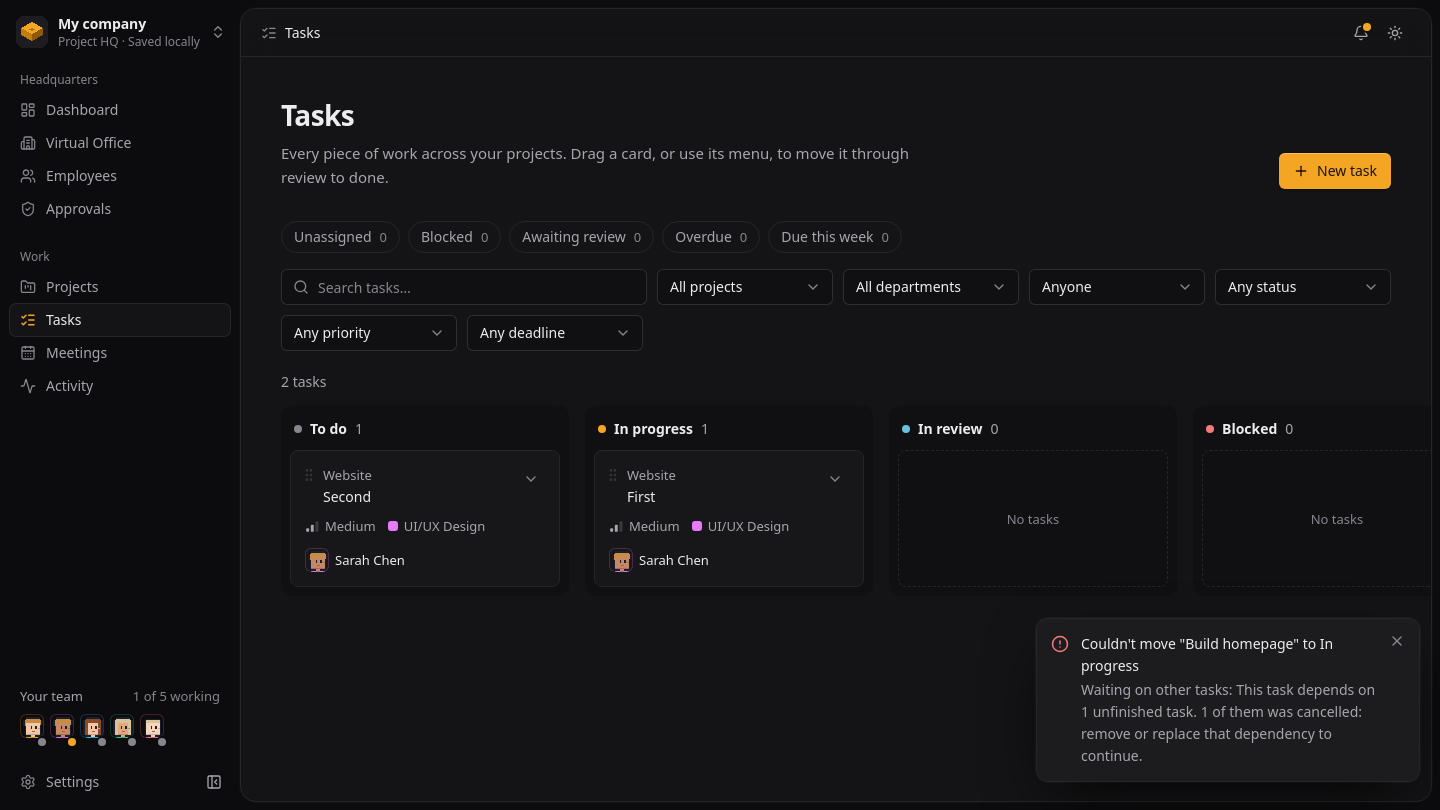
Test case: task board › enforces one active task per employee
Click the button named "Change status of \"Second\" (now To do)" at (531, 479), box [517,465,545,493]
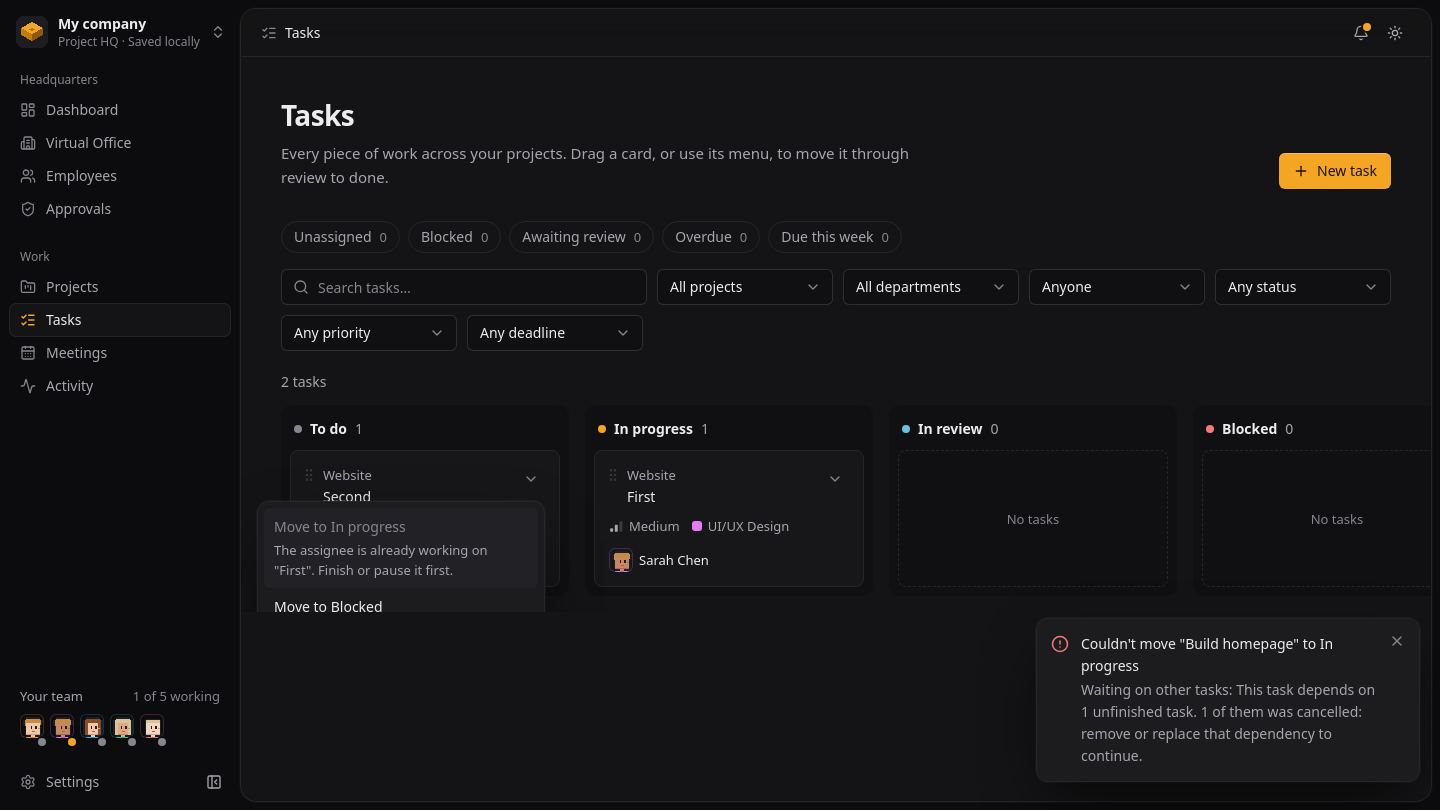
Now the menu item "Move to In progress" shows "already working on \"First\"", box [264,508,538,588]
